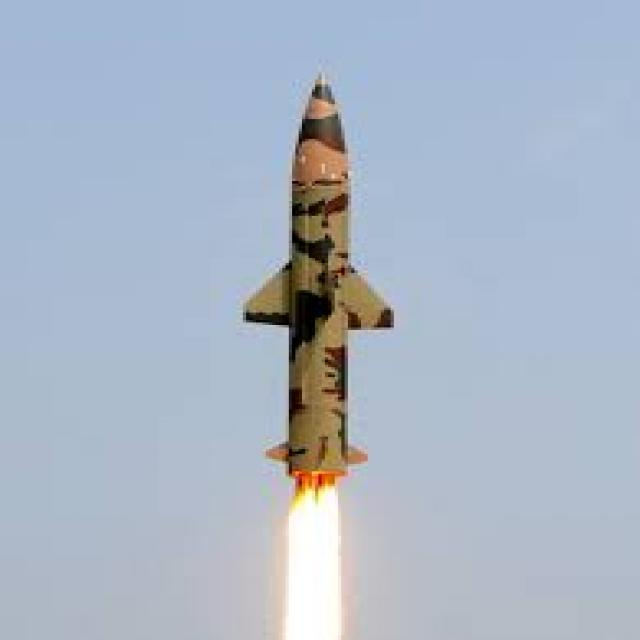rocket: (246, 62, 397, 558)
